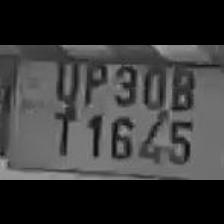0: (136, 56, 166, 106)
1: (79, 105, 104, 159)
3: (108, 57, 138, 105)
4: (136, 108, 164, 162)
5: (163, 112, 195, 164)
6: (106, 108, 134, 160)
B: (166, 55, 196, 109)
P: (79, 50, 109, 106)
T: (46, 100, 78, 158)
U: (47, 48, 80, 104)
